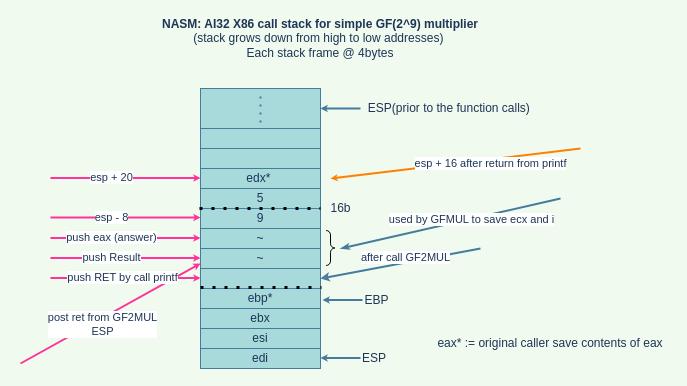
Image size: 687x386. Some labels were removed from this diagram. Here are the shapes that lost their labels. From the top down, the centre of each, then its label:
(x=260, y=138): eax*
(x=260, y=158): ecx*
(x=260, y=278): RET
